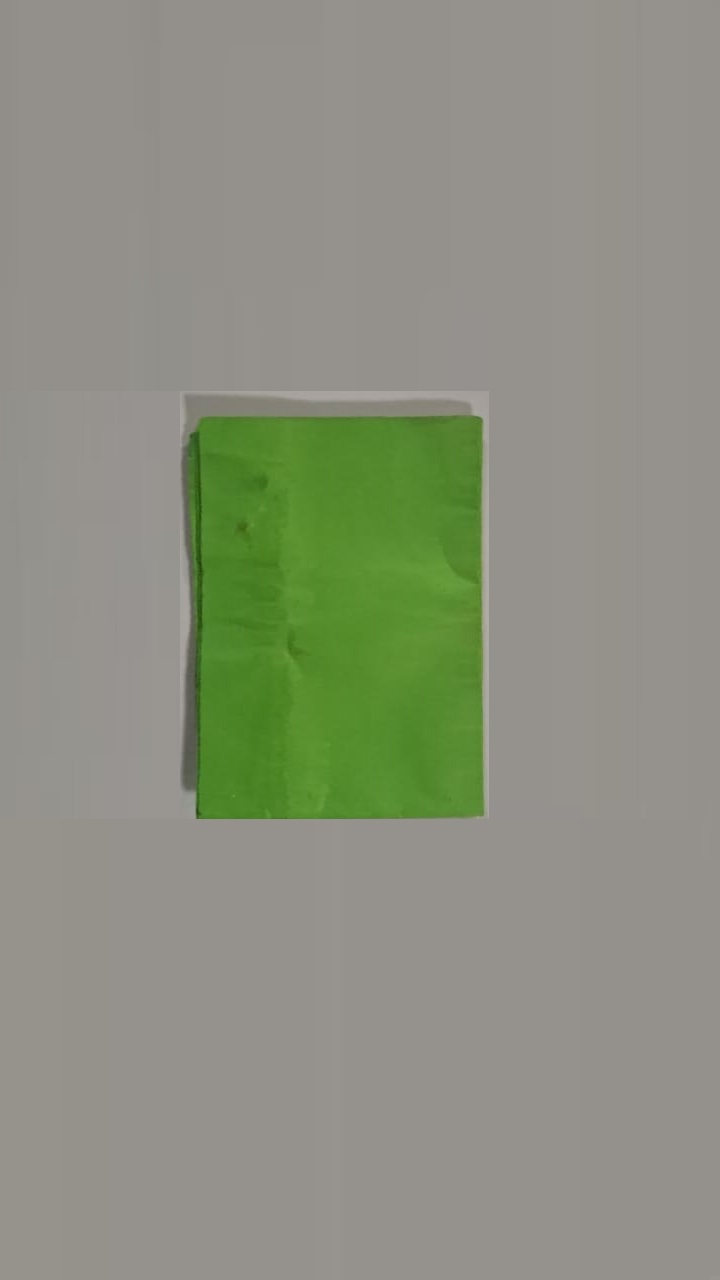Target: (181, 408, 485, 817)
